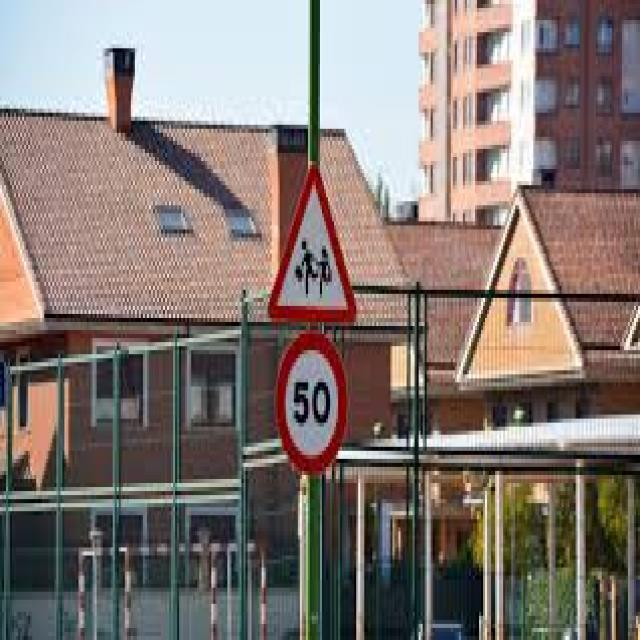Speed limit 50: (273, 327, 351, 476)
